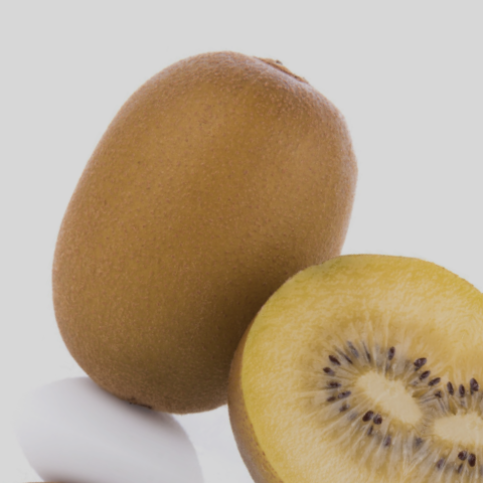kiwi: (0, 0, 447, 483)
